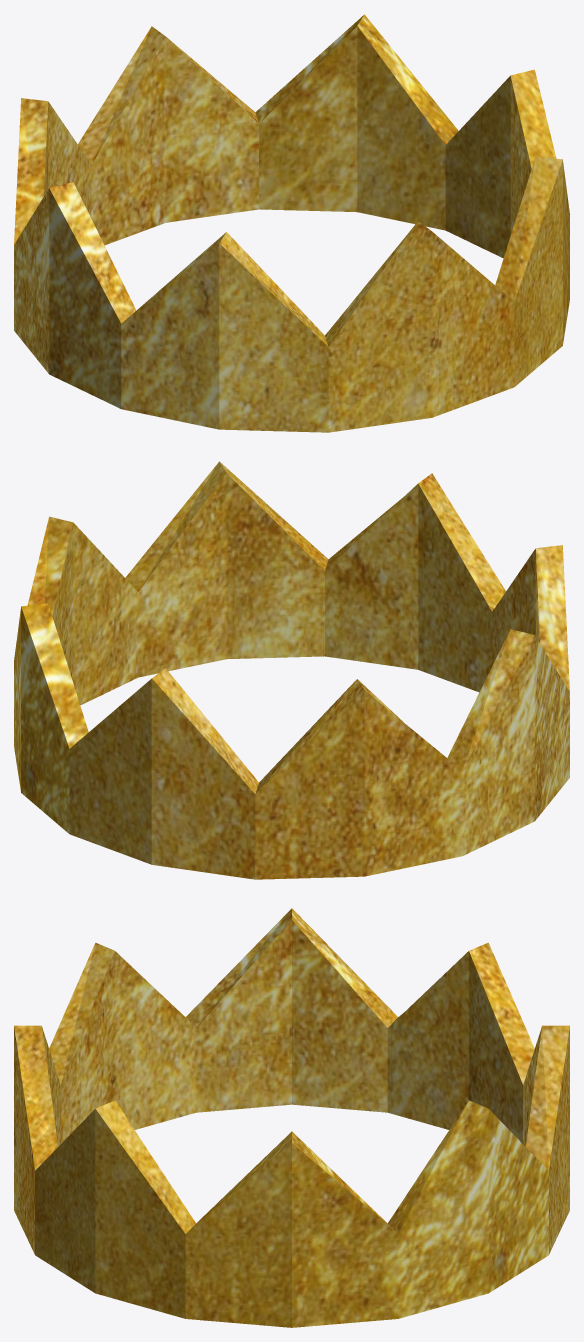
Rendered from crown.obj.
3 views of the same model, one above another, from view 1: azimuth 30°, elevation 25°; view 2: azimuth 150°, elevation 25°; view 3: azimuth 270°, elevation 25° (orthographic).
Size of the model in its own units: 2 by 0.7337 by 2.
